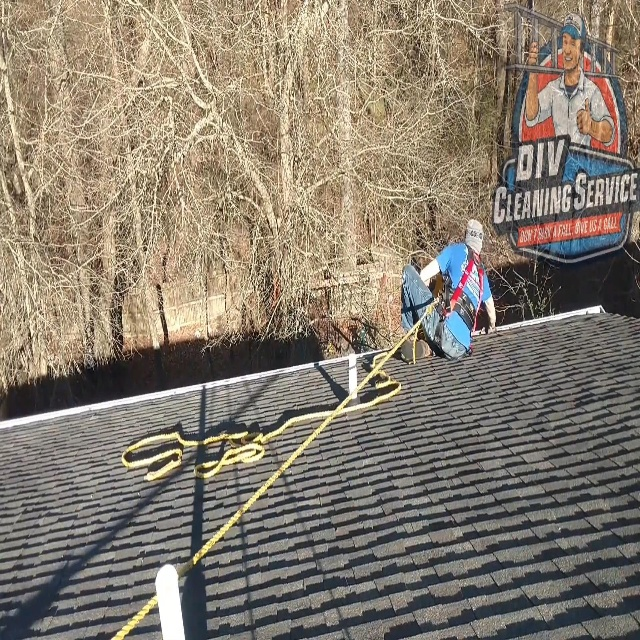Arnes_seguridad: (430, 239, 485, 362)
